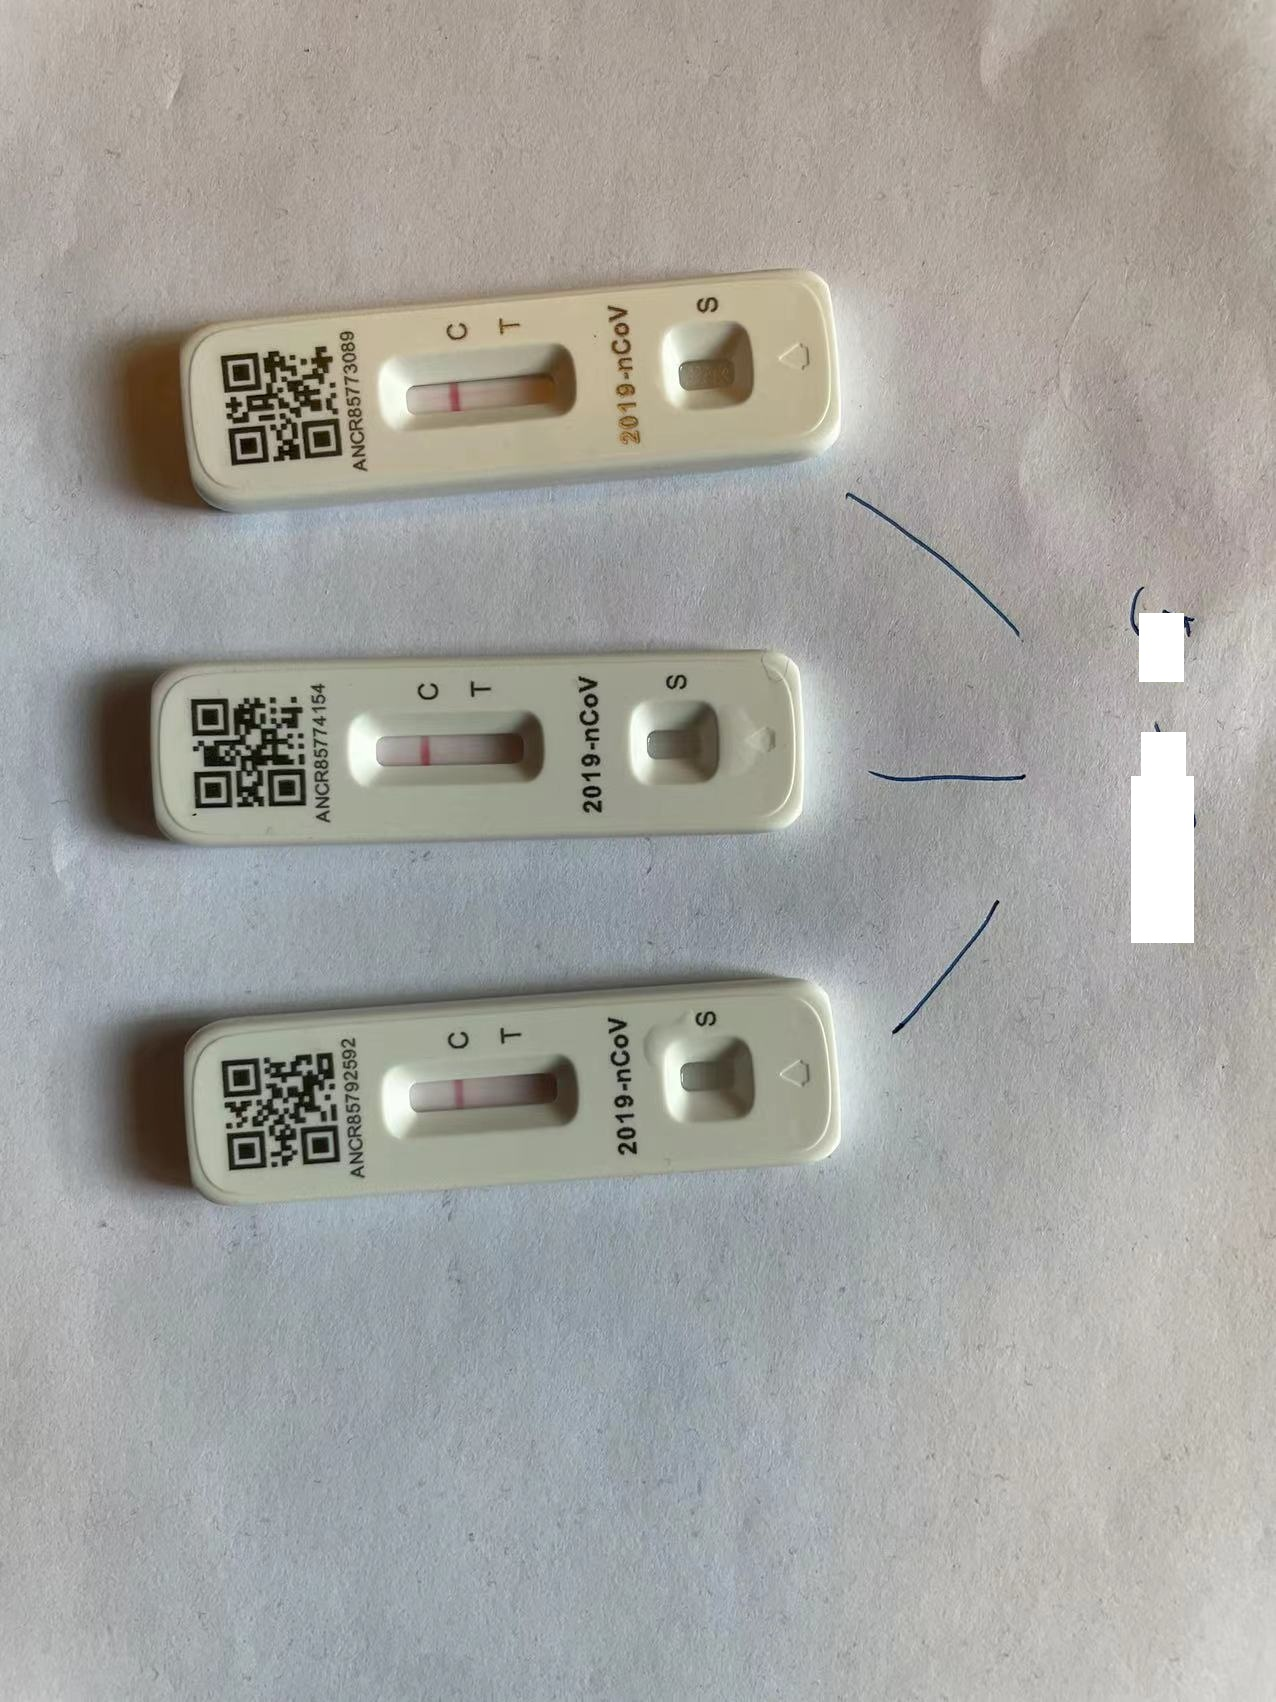negative: (378, 348, 586, 432), (344, 712, 554, 785), (383, 1063, 583, 1138)
